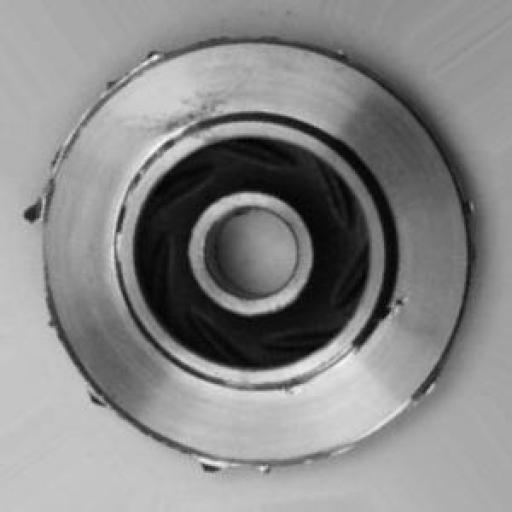defect: (23, 30, 451, 486)
